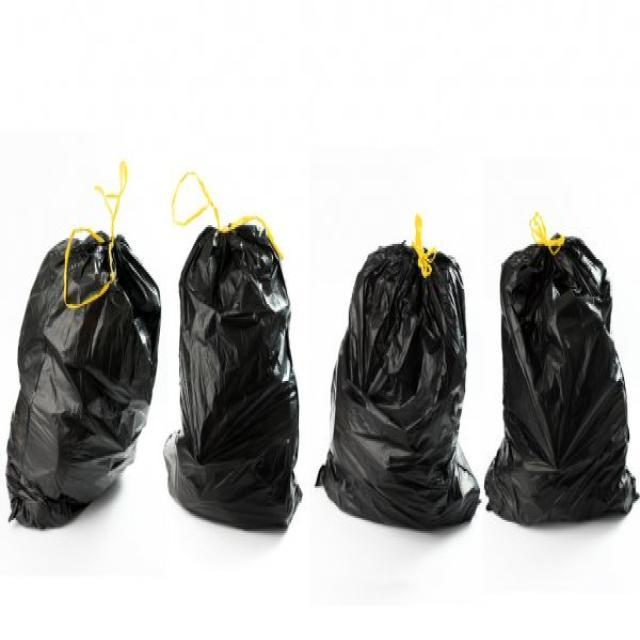Vinyl: (5, 153, 164, 542), (312, 203, 486, 552), (158, 167, 308, 550), (482, 210, 640, 548)
